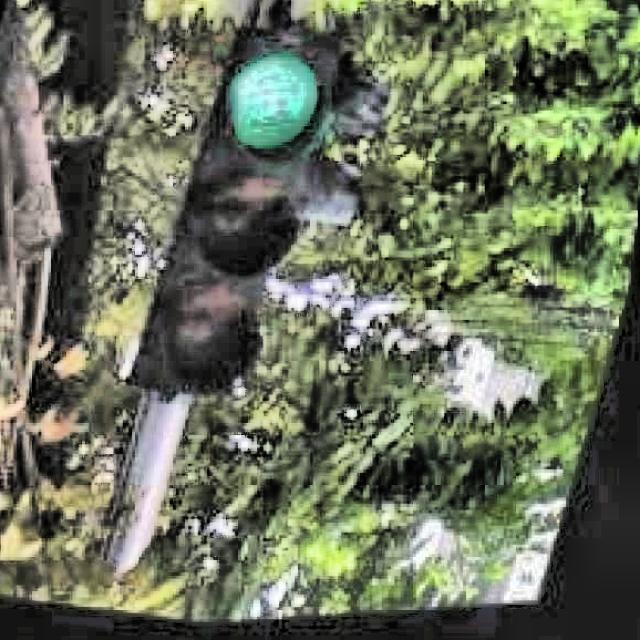green: (148, 23, 336, 399)
